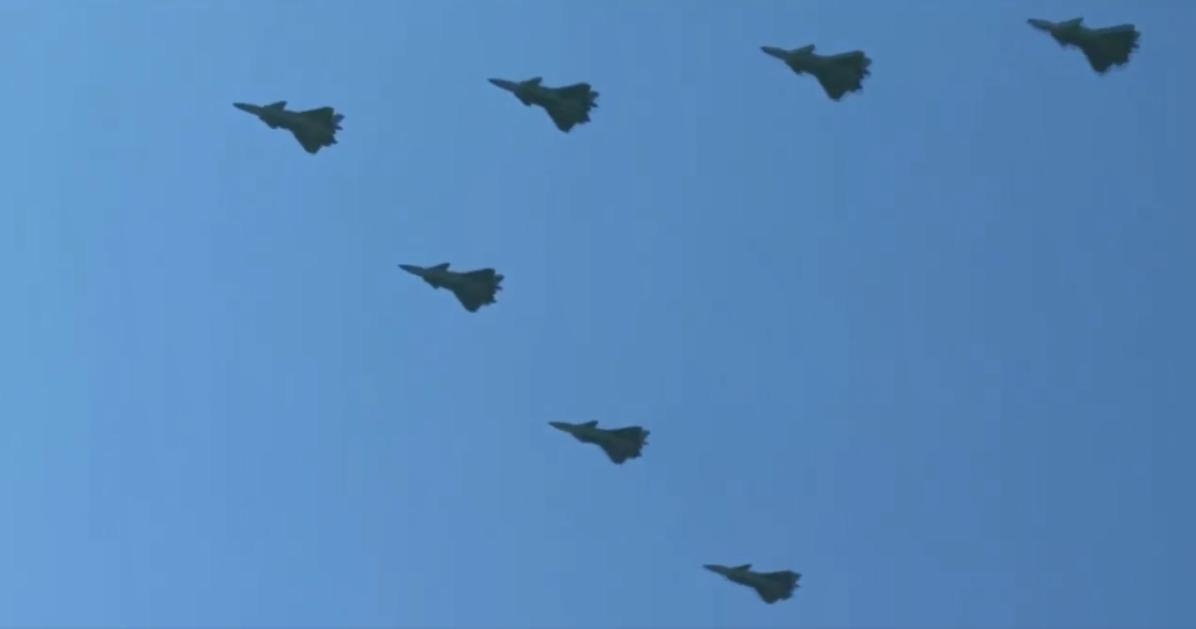airplane: (762, 36, 874, 103), (489, 73, 602, 139), (229, 93, 346, 156), (1026, 16, 1144, 75), (548, 410, 650, 471), (395, 259, 502, 315), (699, 554, 803, 604)
